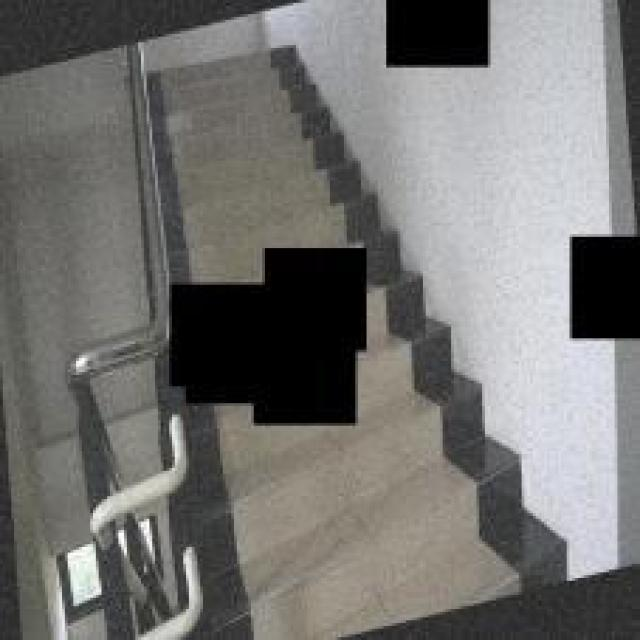upstair: (142, 60, 376, 241)
